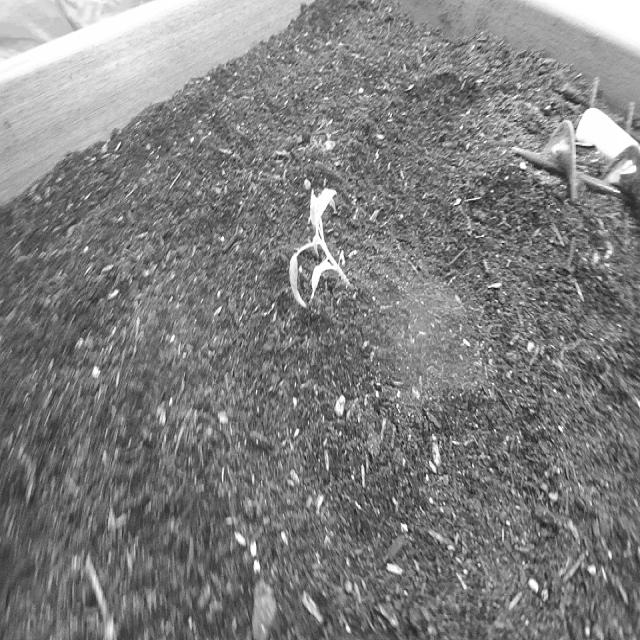Healthy: (278, 172, 363, 320)
